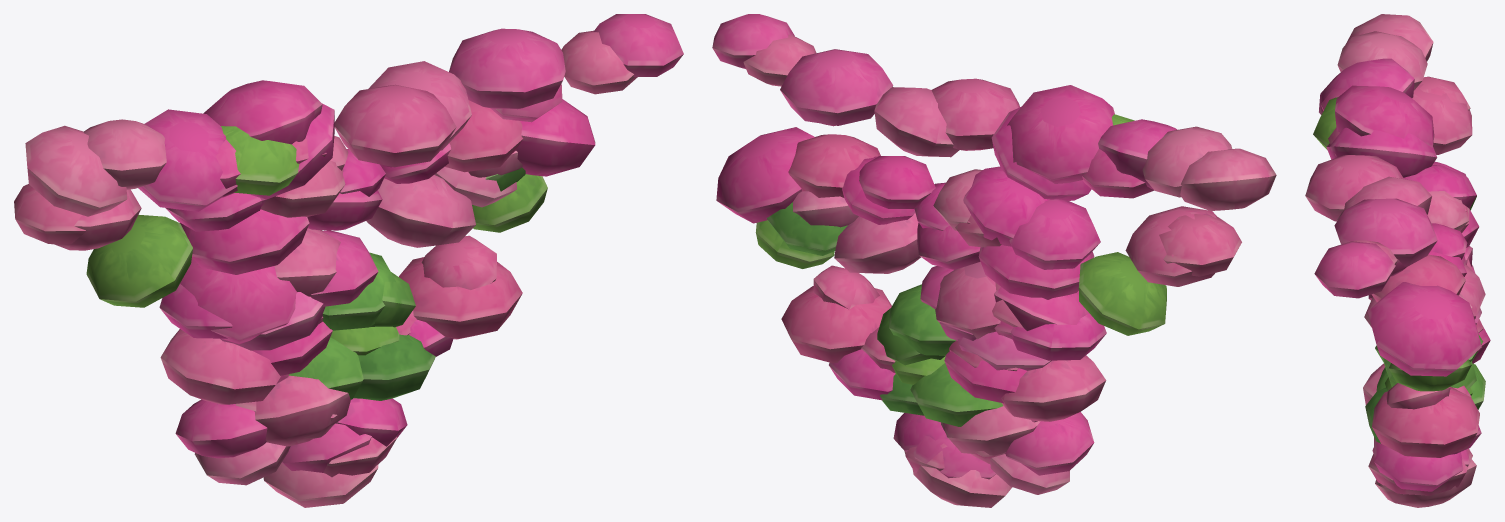
The model's file is bougainvillea_body.fbx.
3 renders of one model, left to right at view 1: azimuth 30°, elevation 25°; view 2: azimuth 150°, elevation 25°; view 3: azimuth 270°, elevation 25°, orthographic. The views are drawn at different scales.
Visible parts, largest first — view 1: bougainvillea_body; view 2: bougainvillea_body; view 3: bougainvillea_body.
Boxes of the visible parts, bbox=[...] form: bougainvillea_body: bbox=[14, 14, 683, 507]; bougainvillea_body: bbox=[712, 14, 1276, 507]; bougainvillea_body: bbox=[1305, 14, 1490, 507].
Size of the model in its own units: 6.76 by 4.6 by 2.03.
